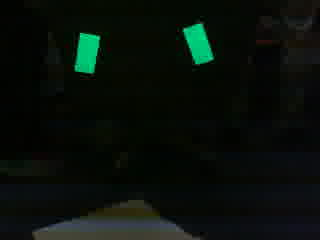target: (74, 21, 217, 76)
